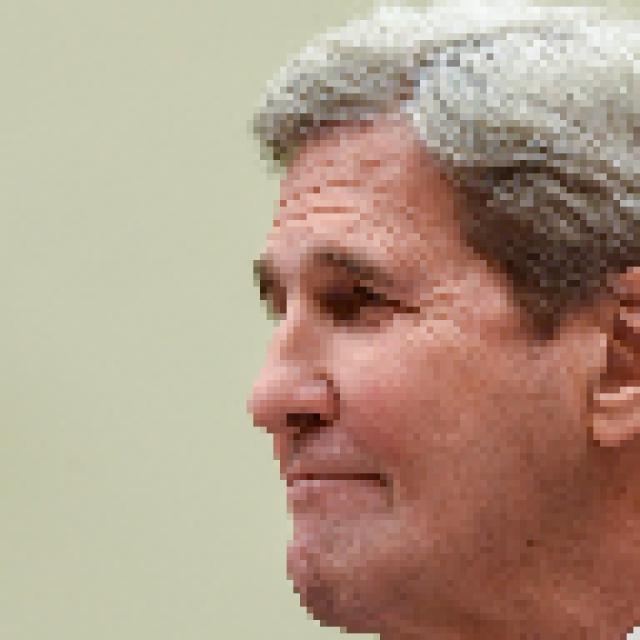happy: (232, 23, 640, 640)
